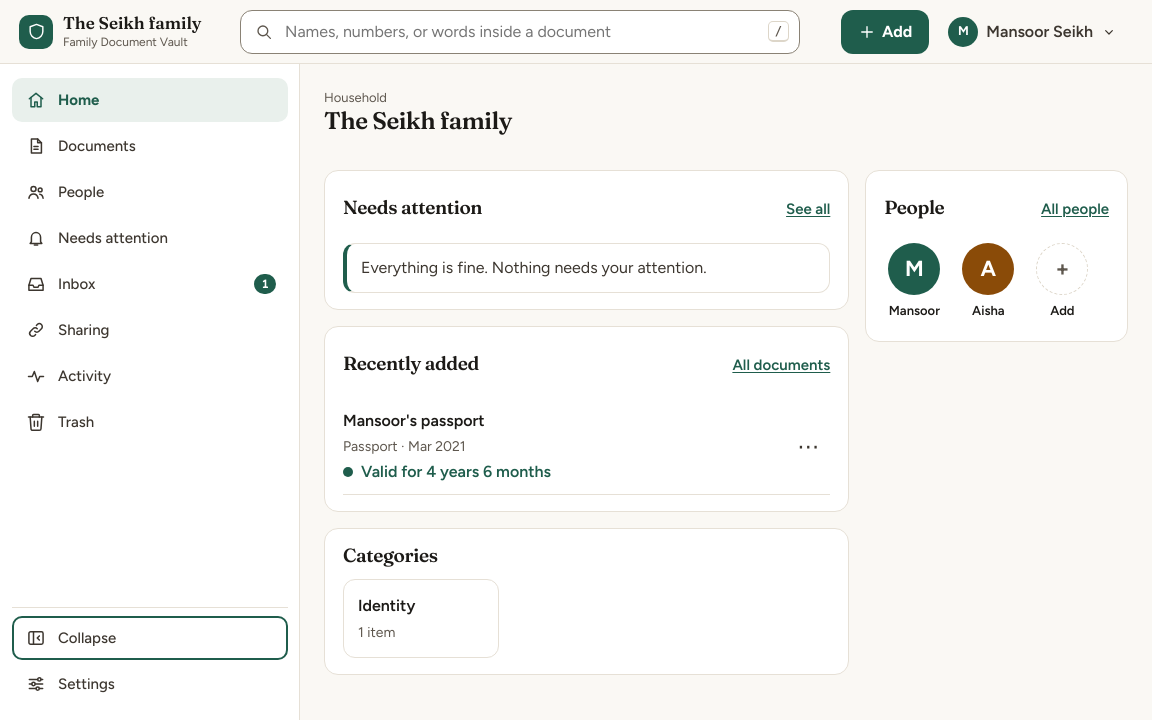
Test: the sidebar folded to its icons, from 1024 px › folds and opens again from its foot, says so, and keeps the width it had
The image size is (1152, 720).
expect the heading "Recently added" is shown: met, box 343,353 -> 479,374
expect the link "Settings" is shown: met, box 26,674 -> 115,694
Click the button with aria-label "Collapse the sidebar" at (87, 638), box 12,616 -> 288,660
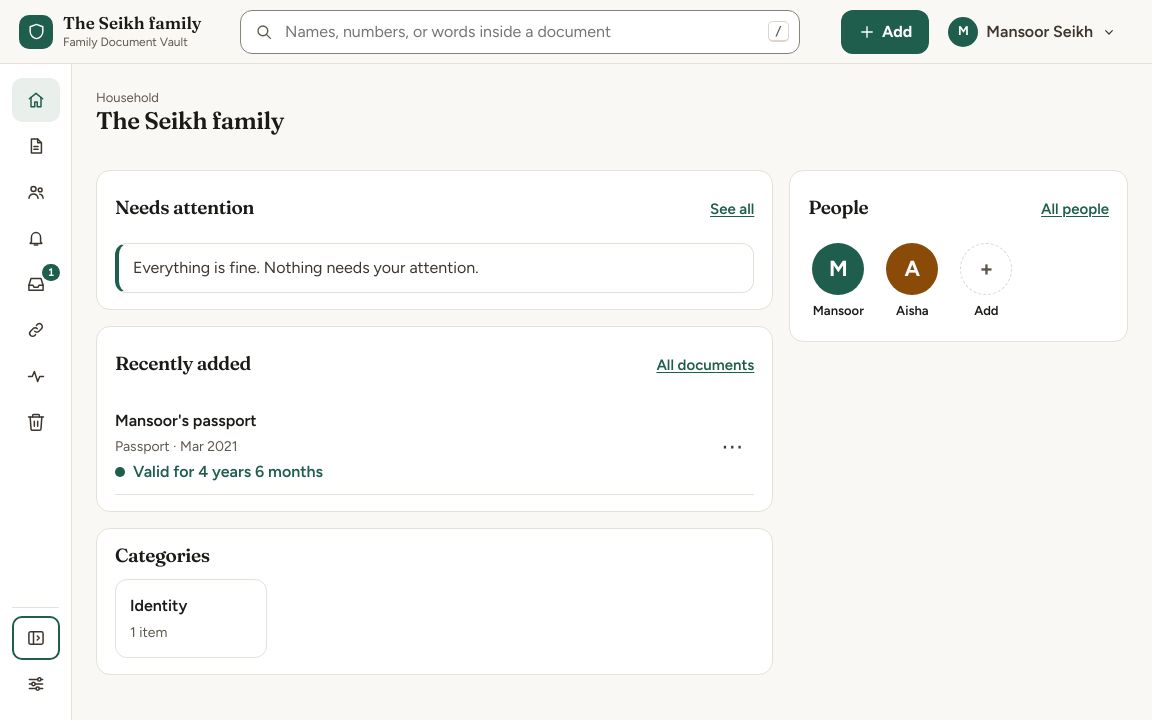
expect the 1st link named "Home" is shown: met, box 12,78 -> 60,122
expect the button named "Expand the sidebar" is collapsed: met
Click the button named "Expand the sidebar" at (36, 638), box 12,616 -> 60,660
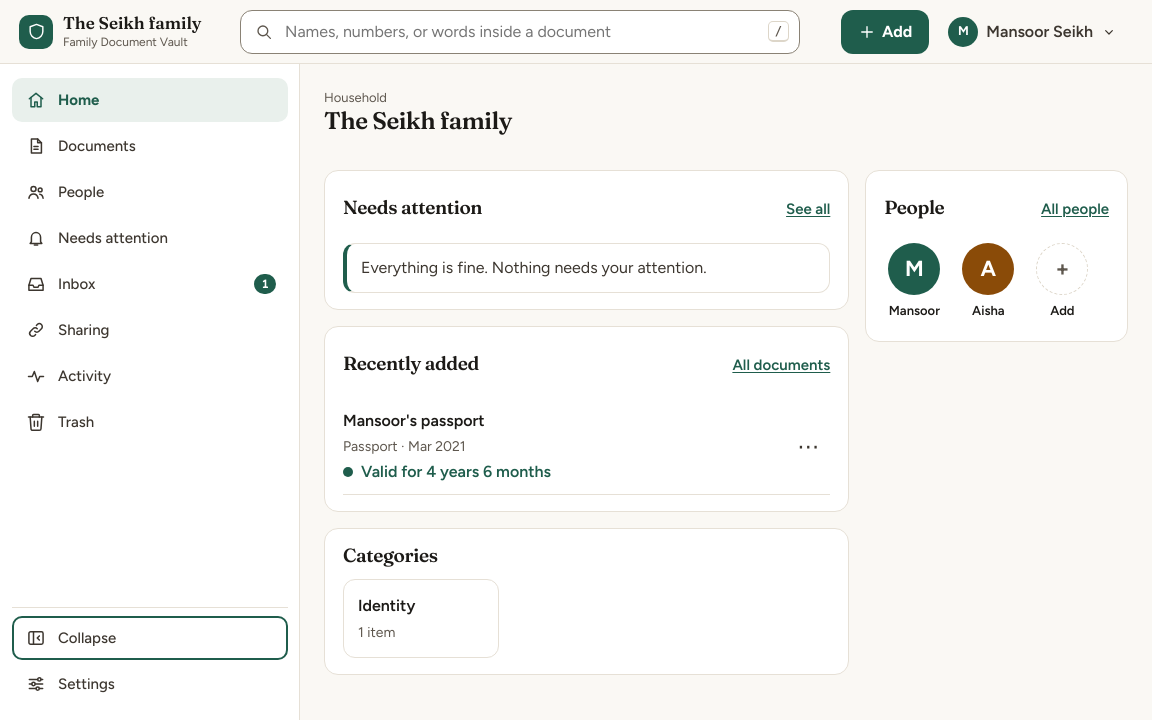
expect the button with aria-label "Collapse the sidebar" is expanded: met, box 12,616 -> 288,660
